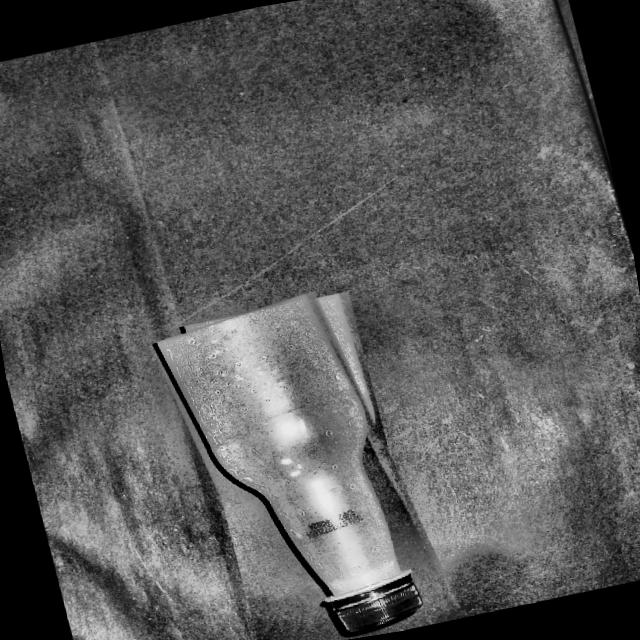Plastic-Bottle: (157, 278, 447, 640)
